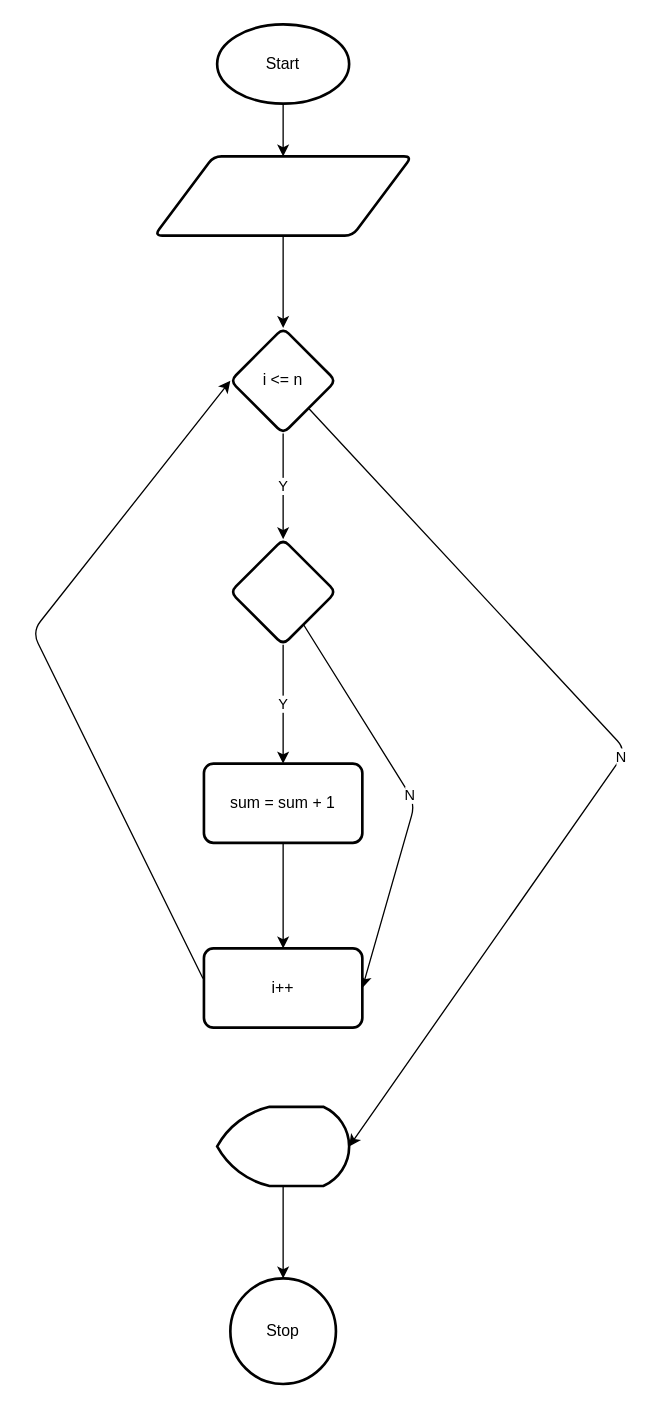
The diagram is 660 pixels wide and 1407 high, and some of its shapes have lost their labels. The shapes that lost their labels are listed below. From the top down, each one's box as (x1, y1, x2, y2) in pixels, then its label:
(152, 154, 412, 236): n = 20, i = 1, sum = 0
(228, 537, 337, 645): i % 2 = 0
(215, 1105, 350, 1187): sum
